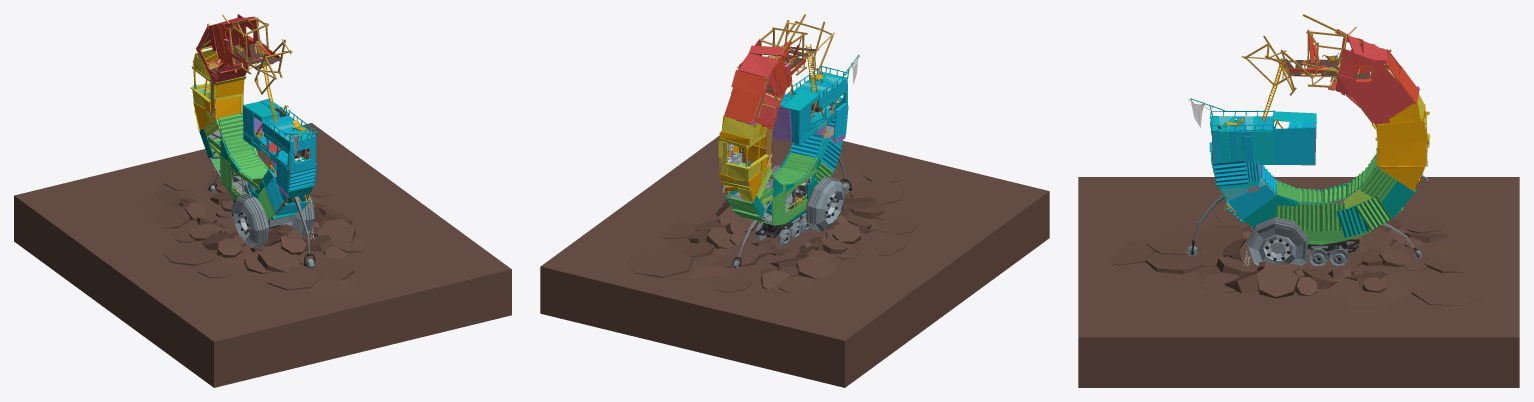
The model's file is gBuildingDraco.glb.
The picture shows the model from 3 angles, left to right: view 1: azimuth 30°, elevation 25°; view 2: azimuth 150°, elevation 25°; view 3: azimuth 270°, elevation 25°; orthographic projection. The views are drawn at different scales.
Parts seen in each view (by area): view 1: Object_14, Object_21, Object_3, Object_9, Object_12, Object_6, Object_20, Object_23, Object_10, Object_7, Object_5, Object_4; view 2: Object_14, Object_21, Object_3, Object_7, Object_9, Object_5, Object_23, Object_12, Object_20, Object_6, Object_10, Object_4 (+2 smaller); view 3: Object_14, Object_21, Object_3, Object_23, Object_6, Object_20, Object_4, Object_9, Object_12, Object_10, Object_7, Object_17 (+2 smaller).
Part boxes in pixels (x1,y1,x2,y2): Object_14: (14,43,511,387); Object_21: (194,86,317,215); Object_3: (194,83,308,220); Object_9: (201,47,314,267); Object_12: (197,17,315,212); Object_6: (192,47,308,206); Object_20: (242,101,317,200); Object_23: (196,14,279,152); Object_10: (209,43,314,267); Object_7: (198,20,305,157); Object_5: (190,48,305,157); Object_4: (199,113,309,219); Object_14: (540,46,1049,387); Object_21: (748,54,858,212); Object_3: (726,74,841,225); Object_7: (724,34,805,155); Object_9: (722,61,849,268); Object_5: (718,117,804,202); Object_23: (730,39,791,126); Object_12: (721,14,859,205); Object_20: (729,65,849,213); Object_6: (719,44,834,200); Object_10: (724,62,850,267); Object_4: (725,76,842,223); Object_14: (1078,55,1519,387); Object_21: (1190,98,1316,223); Object_3: (1222,117,1415,244); Object_23: (1328,35,1416,125); Object_6: (1224,54,1427,211); Object_20: (1209,105,1316,197); Object_4: (1223,119,1414,237); Object_9: (1186,57,1428,265); Object_12: (1189,14,1428,220); Object_10: (1187,53,1422,265); Object_7: (1288,29,1419,123); Object_17: (1190,55,1419,261).
Bounding box in the file's own units: 31.91 × 26.66 × 37.14.
